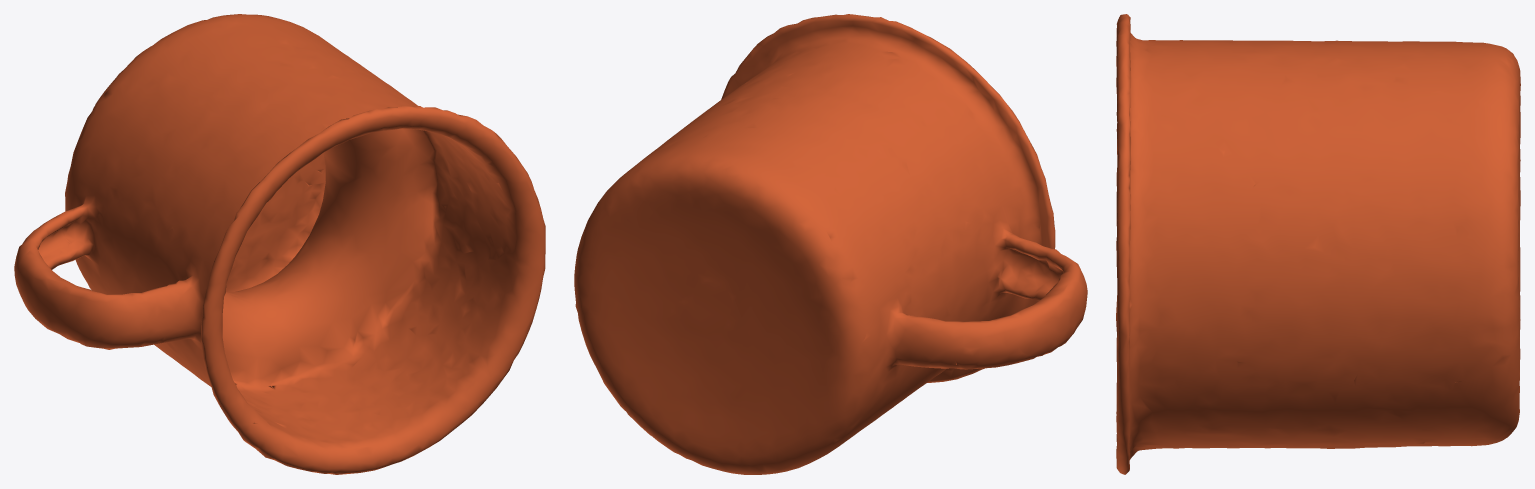
3 renders of one model, left to right at view 1: azimuth 30°, elevation 25°; view 2: azimuth 150°, elevation 25°; view 3: azimuth 270°, elevation 25°, orthographic. The views are drawn at different scales.
Size of the model in its own units: 0.1169 by 0.0932 by 0.0813.
